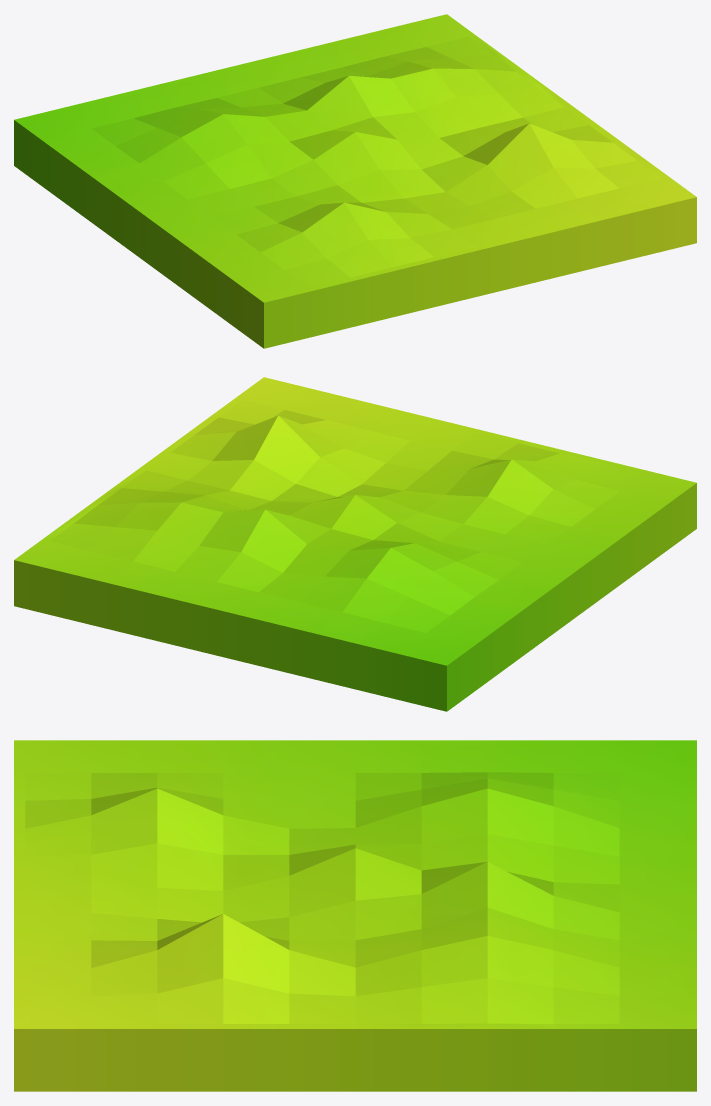
File: grass.fbx
3 views of the same model, one above another, from view 1: azimuth 30°, elevation 25°; view 2: azimuth 150°, elevation 25°; view 3: azimuth 270°, elevation 25° (orthographic). The views are drawn at different scales.
Parts seen in each view (by area): view 1: grass; view 2: grass; view 3: grass.
Boxes of the visible parts, <box> form: grass: <box>14,14,696,348</box>; grass: <box>14,377,696,711</box>; grass: <box>14,740,696,1091</box>.
Size of the model in its own units: 326 by 65.02 by 326.
1 material, 1 textured.
